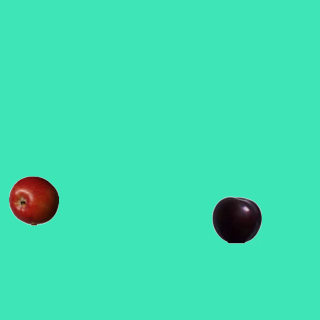Apple Braeburn: (8, 175, 58, 225)
Cherry Wax Black: (211, 194, 261, 244)
